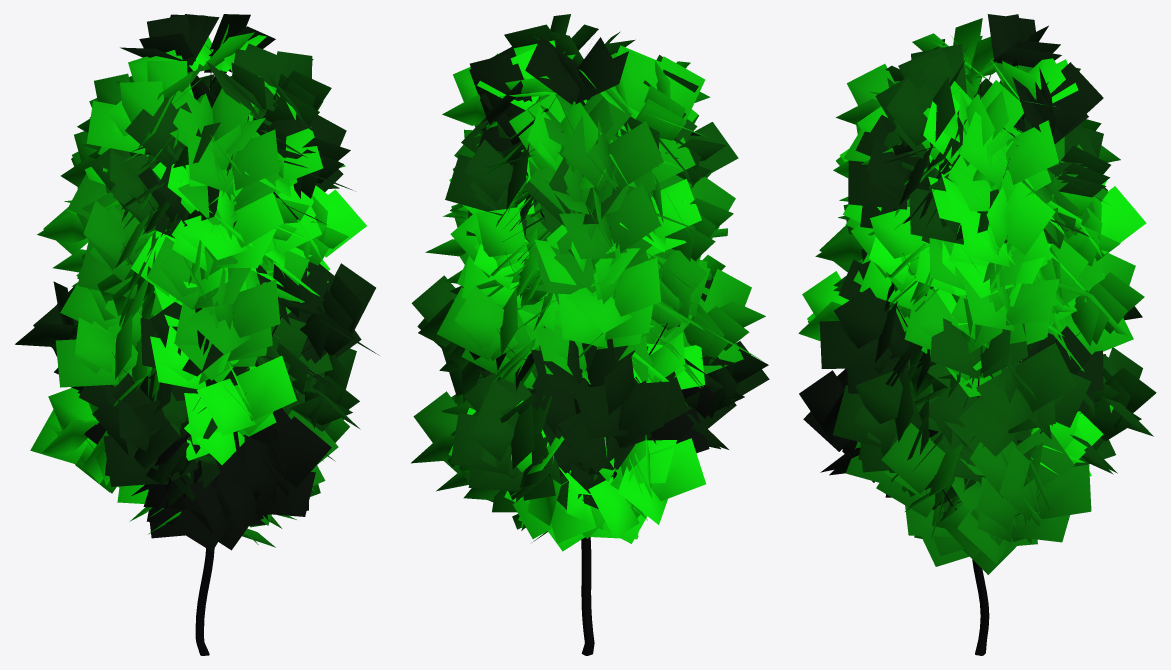
Rendered from Maple_15.fbx.
The picture shows the model from 3 angles, left to right: view 1: azimuth 30°, elevation 25°; view 2: azimuth 150°, elevation 25°; view 3: azimuth 270°, elevation 25°; orthographic projection.
Parts seen in each view (by area): view 1: Maple_15; view 2: Maple_15; view 3: Maple_15.
Boxes of the visible parts, x1,y1,x2,y2 form: Maple_15: (15,14,379,655); Maple_15: (411,14,769,655); Maple_15: (798,14,1156,655).
Bounding box in the file's own units: 589 × 1106 × 574.
